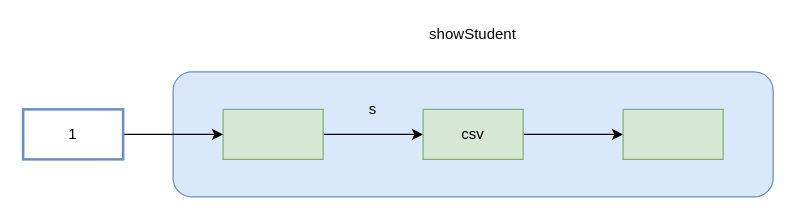
Image size: 795x219. Some labels were removed from this diagram. Each missing label, with the box of its shape:
append: (622, 108, 723, 159)
find: (222, 108, 323, 159)
